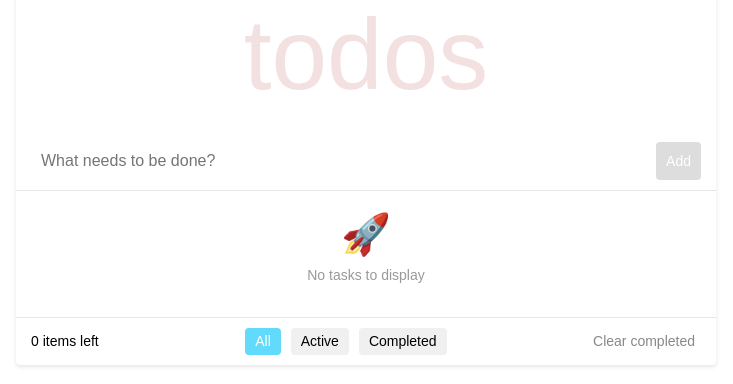
it: TodoList Component › filters tasks based on the selected filter
Type "Task 1" into the field with placeholder "What needs to be done?". click: (344, 161)
box: [31,142,656,180]
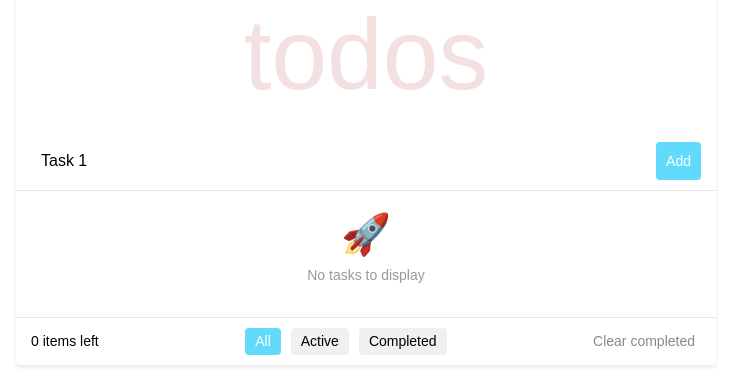
Click the button "Add". click: (679, 161)
box: [656,142,701,180]
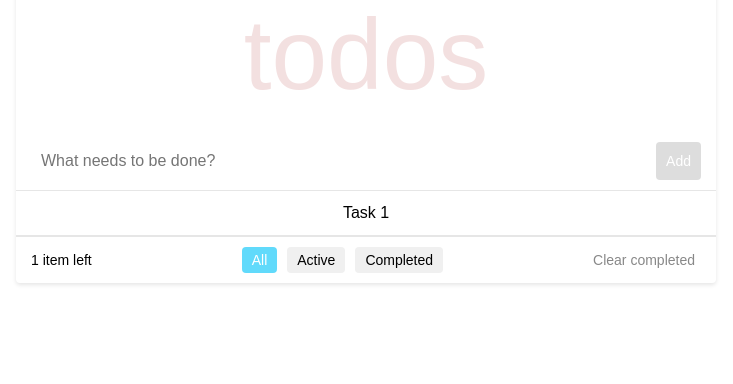
Click the list item "Task 1". click: (366, 214)
box: [16,191,716,236]
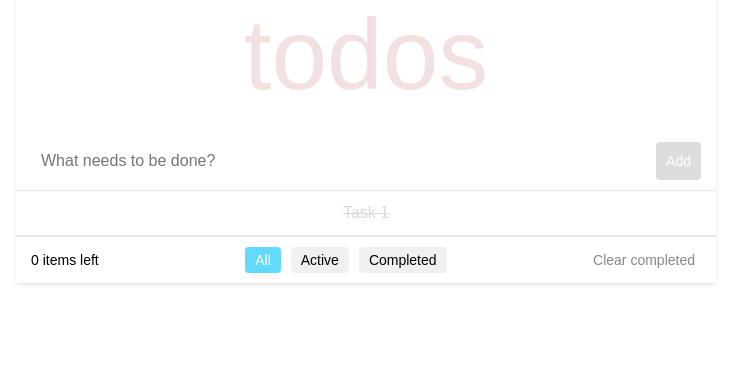
Click the button "Active". click: (320, 260)
box: [291,247,349,274]
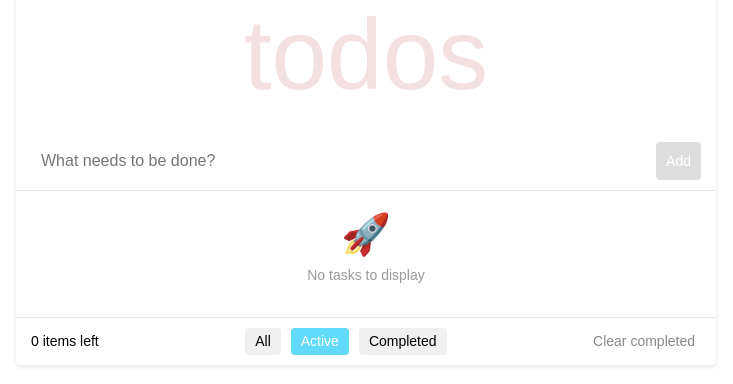
Expected: the list item "Task 1" is gone
Click the button "Completed". click: (403, 342)
box: [359,328,447,355]
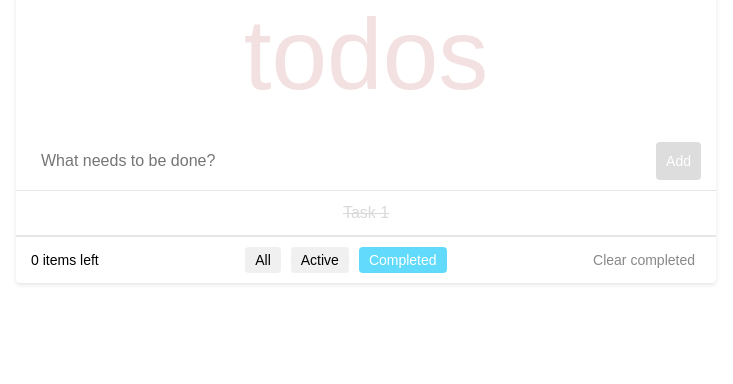
Expected: the list item "Task 1" is shown, [16,191,716,236]
